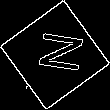N_W: (27, 31, 83, 79)
